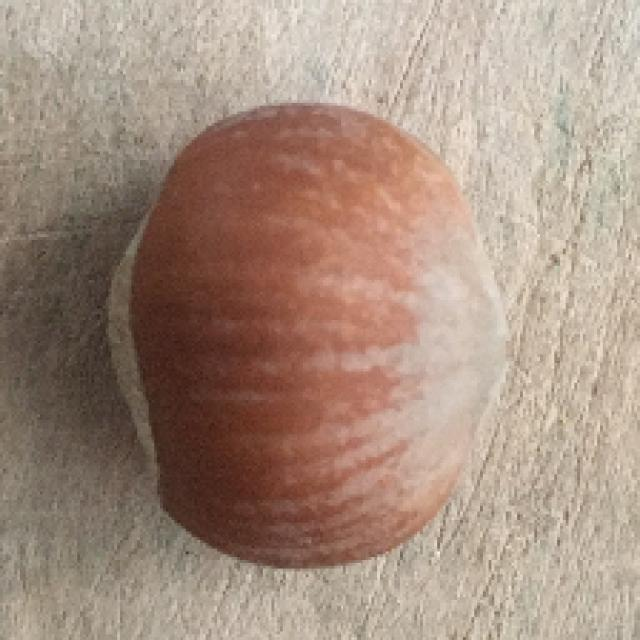QualityHazelnut: (102, 97, 517, 570)
